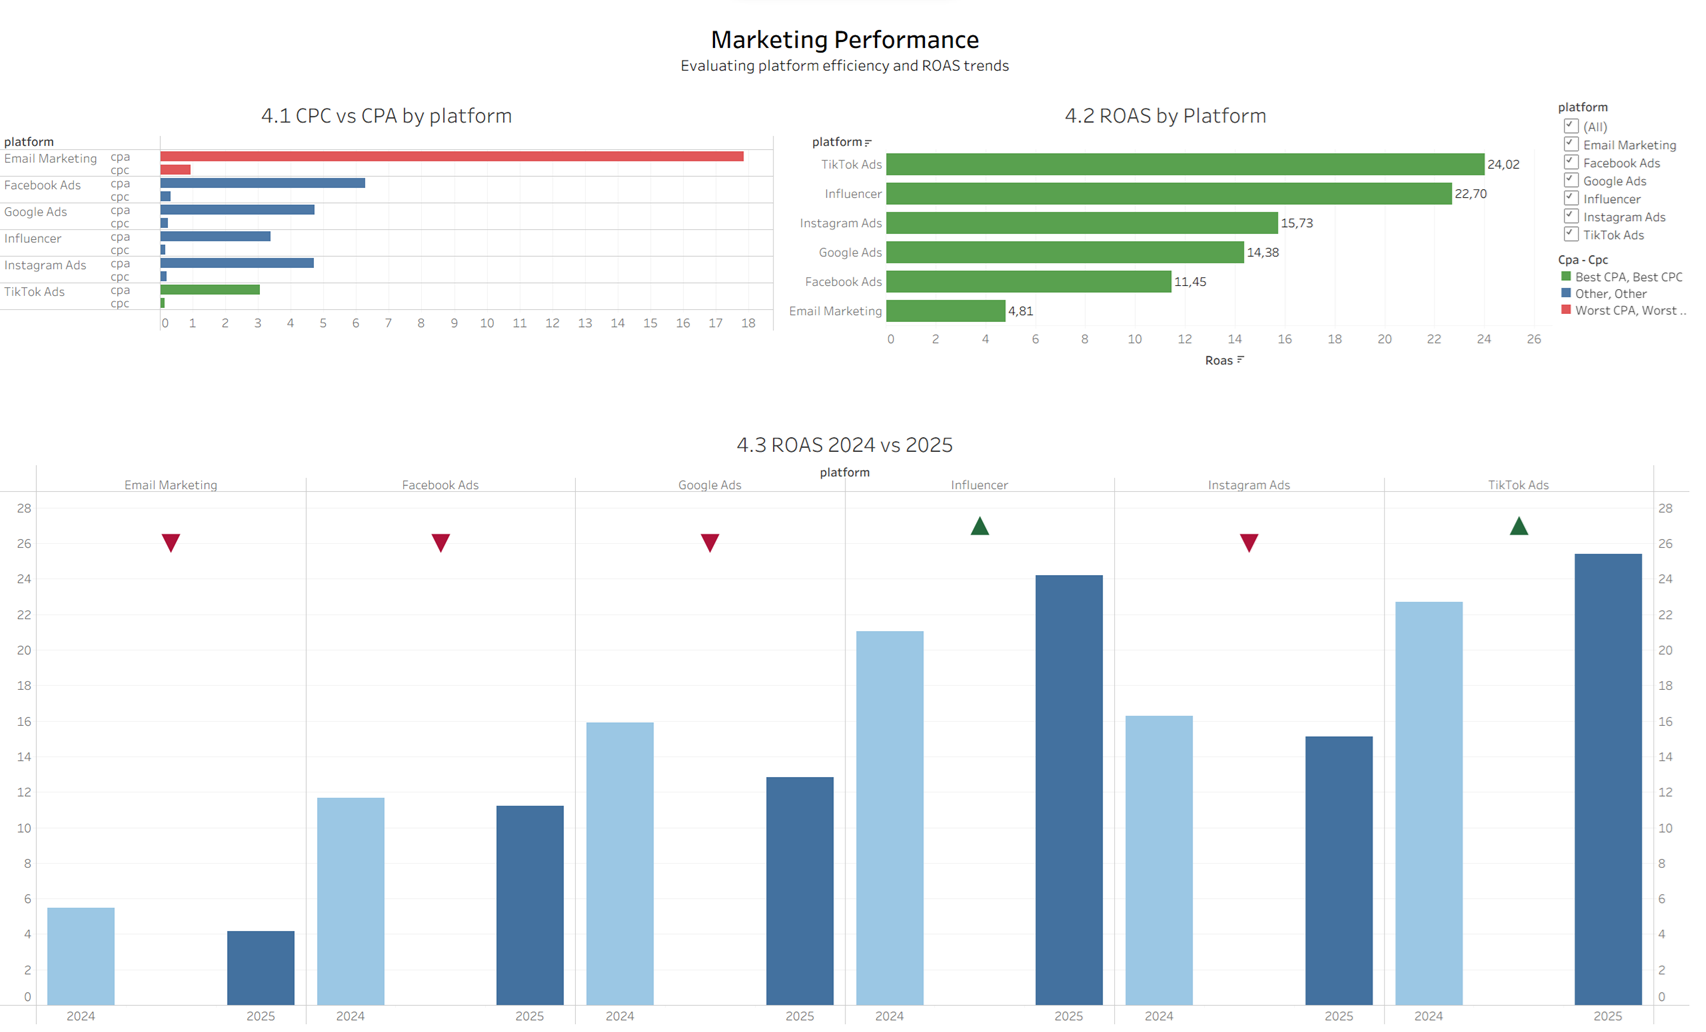

What the dashboard file says about the page in this screenshot:
{"tool":"tableau","page":{"name":"Marketing Performance Analysis","canvas":[1000,1000],"units":"permille","ordinal":4},"visuals":[{"type":"text","box":[3.6,5.7,992.9,90.1]},{"type":"worksheet","title":"4.1 CPC vs CPA by platform","mark":"Bar","rows":["platform"],"box":[3.6,95.8,450.5,316.9]},{"type":"worksheet","title":"4.2 ROAS by Platform","mark":"Automatic","rows":["platform"],"cols":["roas"],"box":[454.1,95.8,450.5,316.9]},{"type":"filter","title":"4.1 CPC vs CPA by platform","param":"[federated.1nguwsz1fyikch1gdxo3p1bwu2vf].[none:platform:nk]","box":[904.6,95.8,91.8,163.8]},{"type":"legend","title":"4.1 CPC vs CPA by platform","param":"[federated.1nguwsz1fyikch1gdxo3p1bwu2vf].[none:label_cpa:nk]\n[federated.1nguwsz1","box":[904.6,259.6,91.8,78]},{"type":"worksheet","title":"4.3 ROAS 2024 vs 2025","mark":"Automatic","rows":["Calculation_0855453837836298"],"cols":["platform"],"box":[3.6,412.7,992.9,581.6]}]}

Visuals, with their boxes on the dashboard's canvas, which has no fixed pixel size, in thousandths of its width and height (x1, y1, x2, y2). These are canvas units, not pixel positions in the 1706x1032 screenshot, which may show the page scaled, cropped or inside an application window:
text: locate(4, 6, 996, 96)
"4.1 CPC vs CPA by platform" worksheet (Bar marks): locate(4, 96, 454, 413)
"4.2 ROAS by Platform" worksheet: locate(454, 96, 905, 413)
"4.1 CPC vs CPA by platform" filter: locate(905, 96, 996, 260)
"4.1 CPC vs CPA by platform" legend: locate(905, 260, 996, 338)
"4.3 ROAS 2024 vs 2025" worksheet: locate(4, 413, 996, 994)
